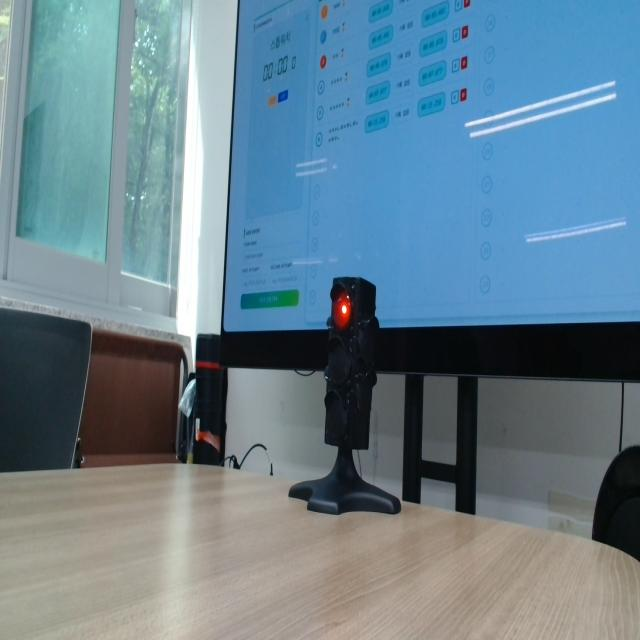red_light: (332, 291, 351, 330)
